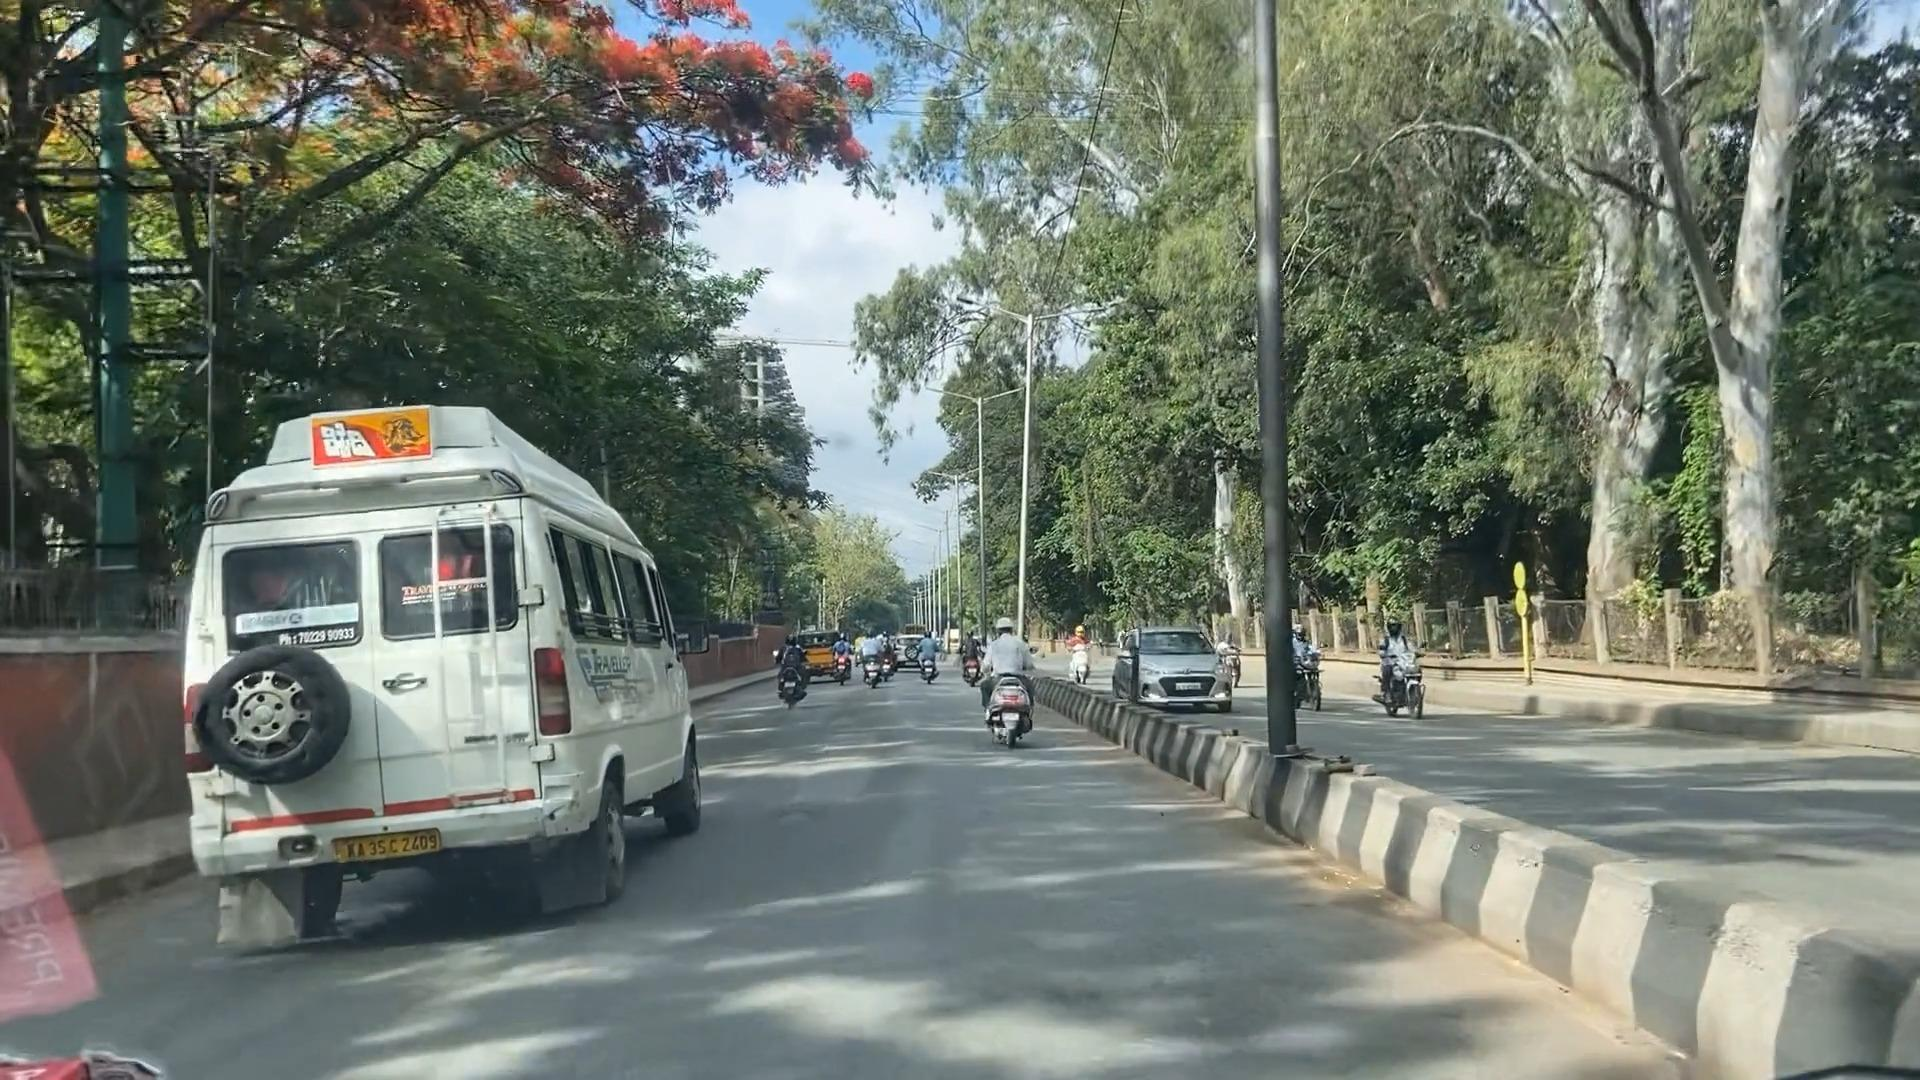HMV: (156, 433, 707, 959)
